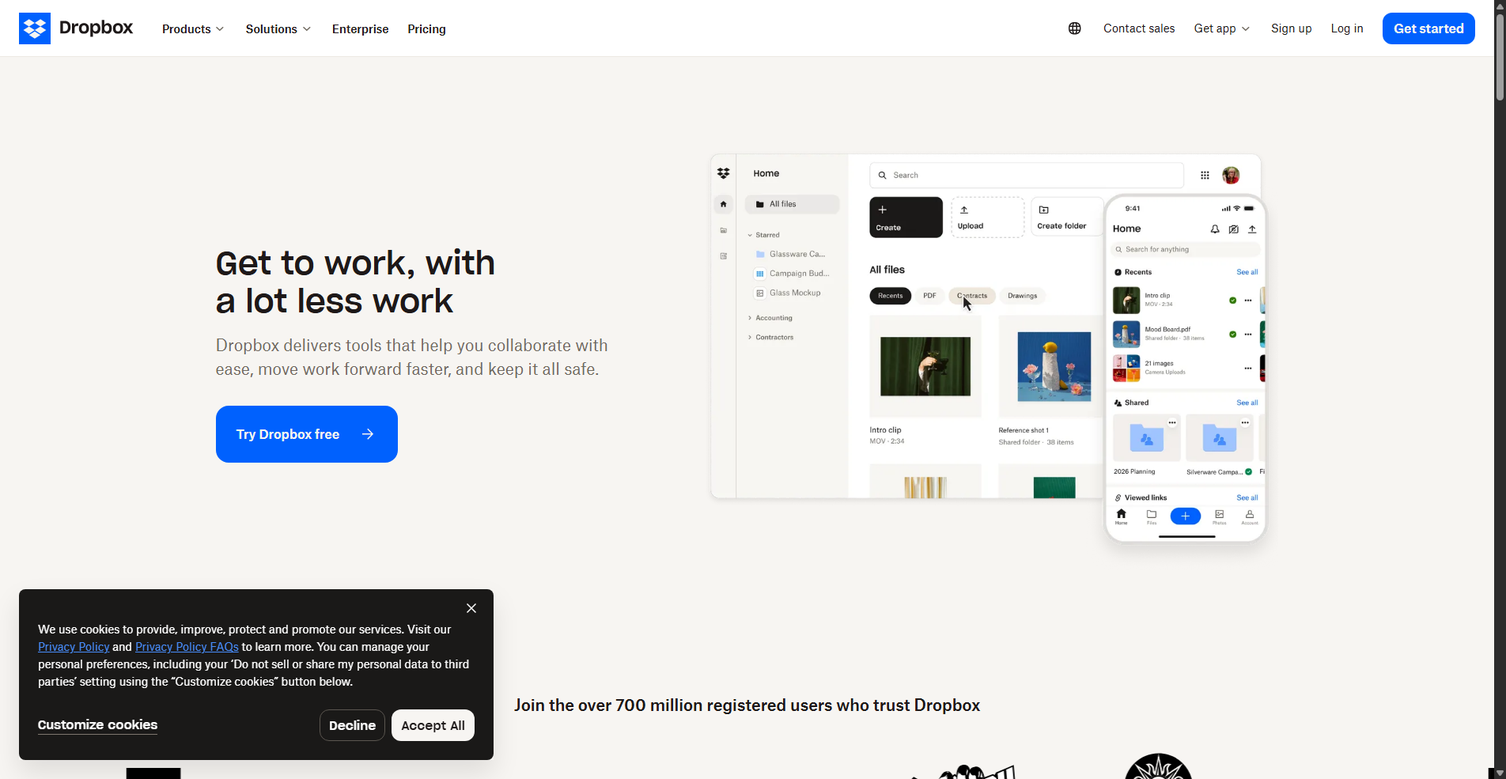button: (216, 406, 398, 463), (1094, 0, 1185, 57), (236, 0, 323, 57), (153, 0, 236, 57), (1185, 0, 1261, 57), (323, 0, 398, 57), (19, 13, 153, 44), (1261, 0, 1321, 57), (398, 0, 455, 57), (51, 13, 153, 44), (1321, 0, 1373, 57), (1383, 13, 1475, 44), (236, 427, 339, 442), (1056, 13, 1094, 44), (1103, 21, 1175, 36), (1394, 21, 1464, 36), (19, 13, 51, 44), (332, 21, 389, 36), (246, 21, 297, 36), (162, 21, 211, 36), (1194, 21, 1236, 36), (1271, 21, 1312, 36), (408, 21, 446, 36), (1331, 21, 1364, 36), (1066, 19, 1085, 38), (214, 22, 227, 35), (300, 22, 313, 35), (1239, 22, 1252, 35)
dropdown: (233, 57, 802, 321), (149, 57, 529, 373), (149, 63, 339, 367), (339, 63, 529, 367), (233, 63, 423, 315), (423, 63, 613, 315), (613, 63, 802, 315), (1181, 57, 1371, 152), (1181, 63, 1371, 146), (149, 63, 339, 136), (149, 136, 339, 209), (149, 209, 339, 282), (339, 63, 529, 136), (339, 136, 529, 209), (339, 209, 529, 282), (149, 282, 339, 354), (233, 93, 423, 128), (233, 128, 423, 163), (233, 163, 423, 198), (233, 198, 423, 233), (423, 93, 613, 128), (423, 128, 613, 163), (423, 163, 613, 198), (423, 198, 613, 233), (1181, 63, 1371, 98), (1181, 98, 1371, 133), (613, 93, 802, 128), (613, 128, 802, 163), (613, 163, 802, 198), (613, 198, 802, 233), (613, 267, 802, 302), (233, 233, 423, 267), (423, 233, 613, 267), (613, 233, 802, 267), (233, 63, 423, 90), (423, 63, 613, 90), (613, 63, 802, 90), (162, 221, 187, 247), (162, 294, 187, 320), (352, 221, 377, 247), (162, 76, 187, 101), (162, 149, 187, 174), (352, 76, 377, 101), (352, 149, 377, 174)
link: (149, 63, 339, 136), (149, 136, 339, 209), (149, 209, 339, 282), (339, 63, 529, 136), (339, 136, 529, 209), (339, 209, 529, 282), (149, 282, 339, 354), (233, 93, 423, 128), (233, 128, 423, 163), (233, 163, 423, 198), (233, 198, 423, 233), (423, 93, 613, 128), (423, 128, 613, 163), (423, 163, 613, 198), (423, 198, 613, 233), (1181, 63, 1371, 98), (1181, 98, 1371, 133), (613, 93, 802, 128), (613, 128, 802, 163), (613, 163, 802, 198), (613, 198, 802, 233), (613, 267, 802, 302), (233, 233, 423, 267), (423, 233, 613, 267), (613, 233, 802, 267)
